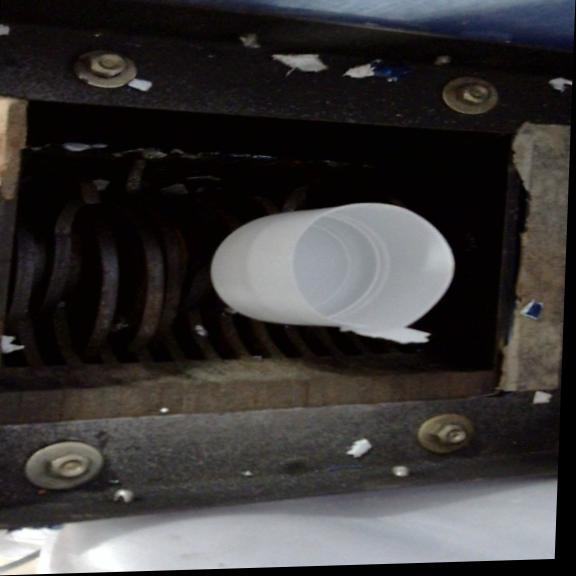Plastik: (190, 168, 482, 368)
